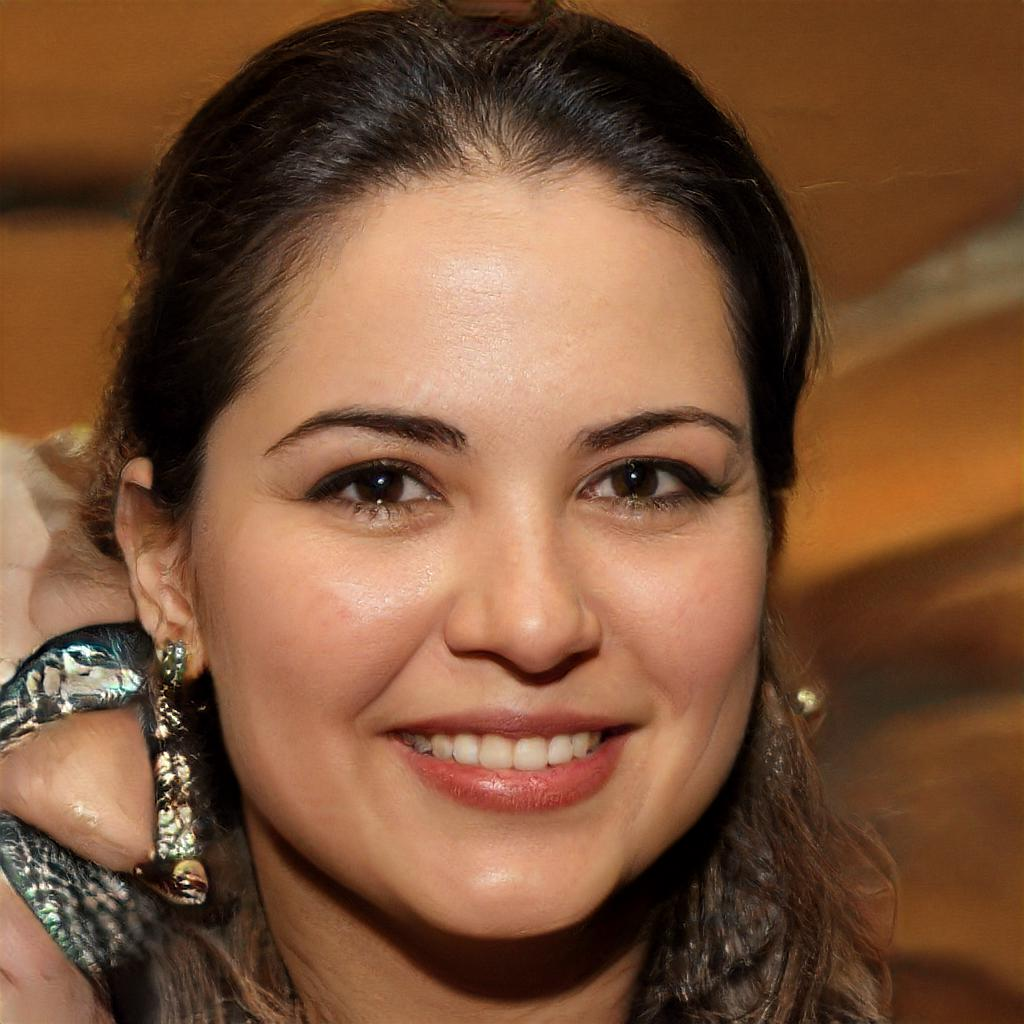face: (192, 173, 770, 939)
